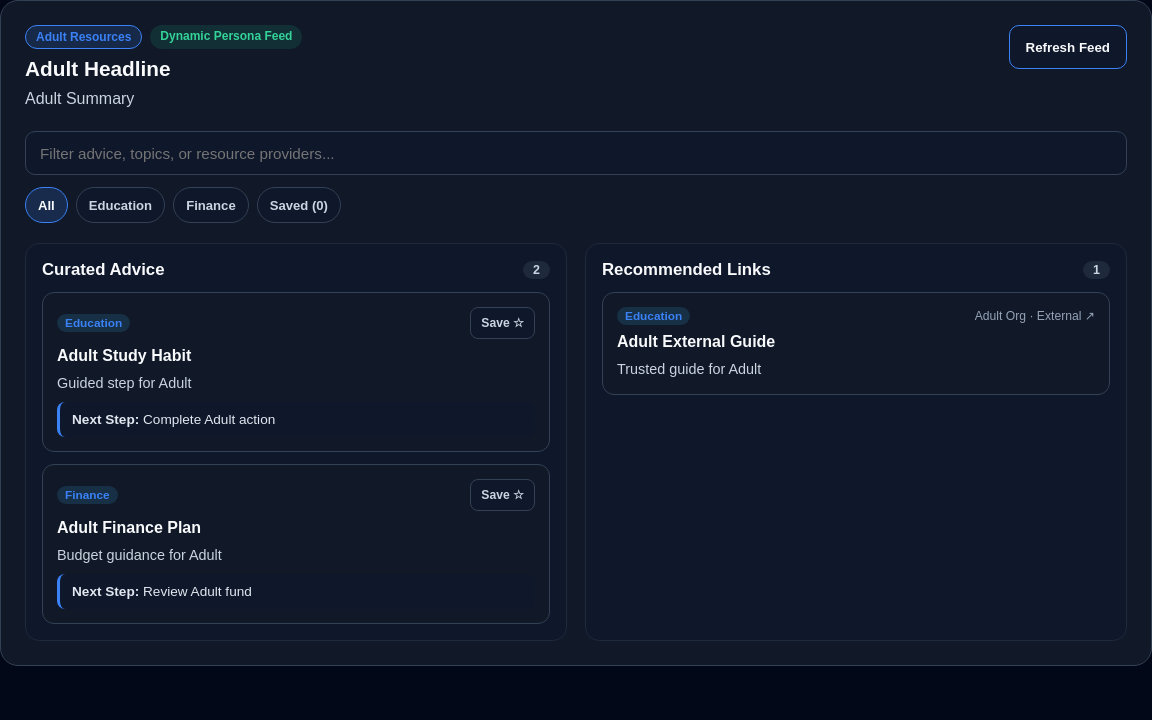
Test: CommunityResourcesComponent › filters advice and links by category and search query and supports bookmarks
The width and height of the screenshot is (1152, 720).
Click the button with test id "resource-category-finance" at point(211, 205), box [173, 187, 249, 223]
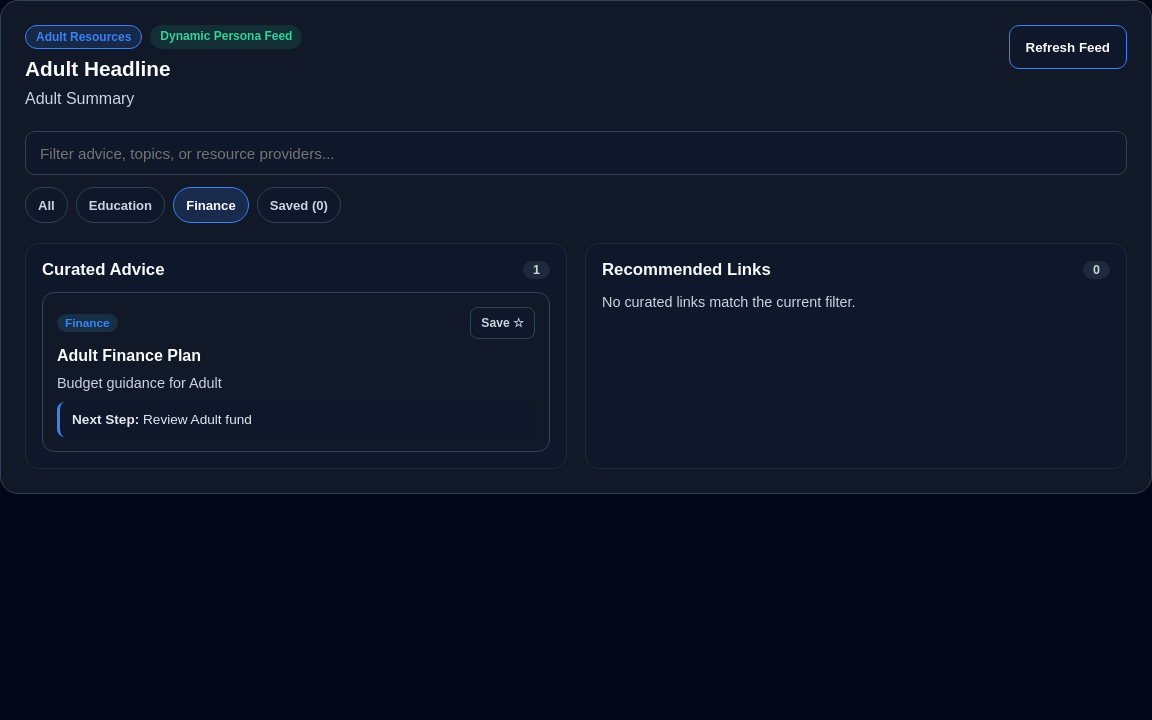
Check: the element with test id "advice-card-adult-adv-2" is shown, box [42, 292, 550, 452]
Check: the element with test id "advice-card-adult-adv-1" is gone
Click the button with test id "resource-category-all" at point(46, 205), box [25, 187, 68, 223]
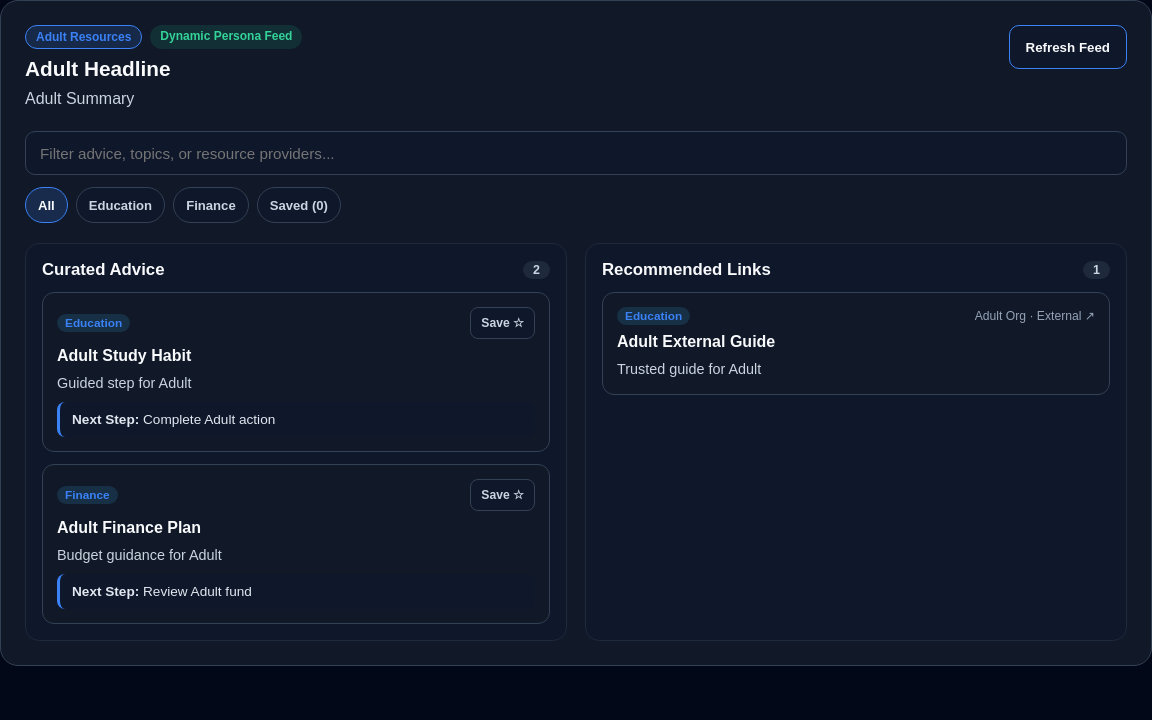
Click the button with test id "bookmark-advice-adult-adv-1" at point(503, 323), box [470, 307, 535, 339]
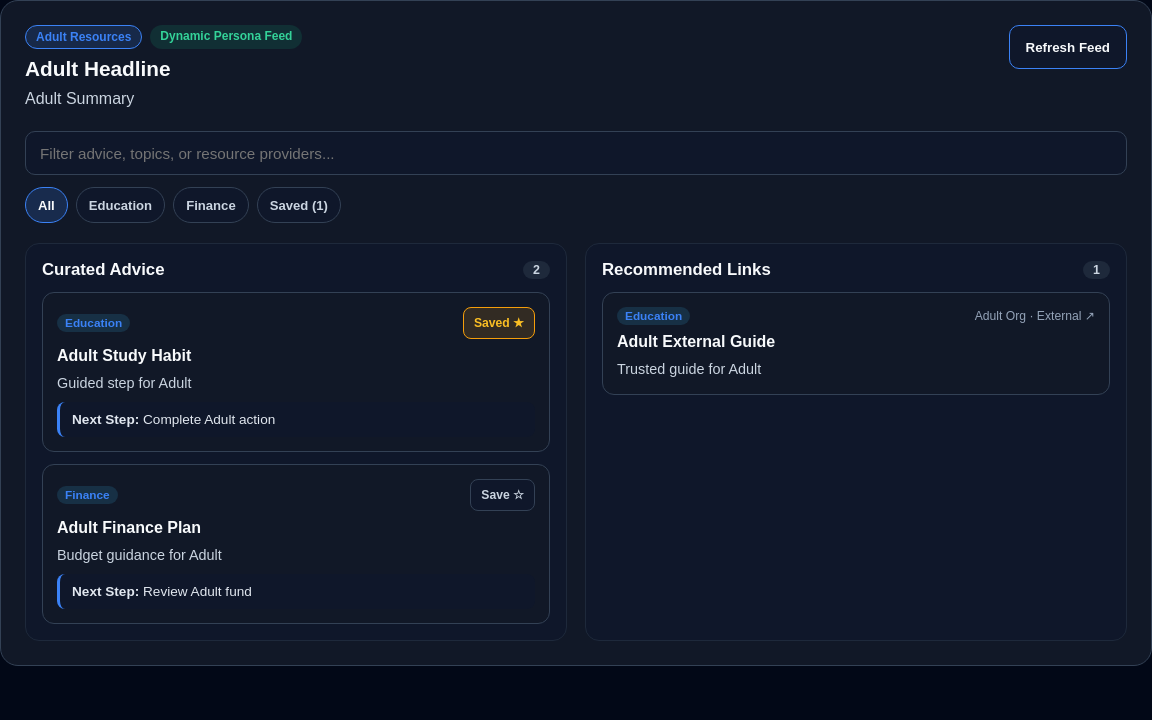
Click the button with test id "resources-saved-only-btn" at point(299, 205), box [257, 187, 341, 223]
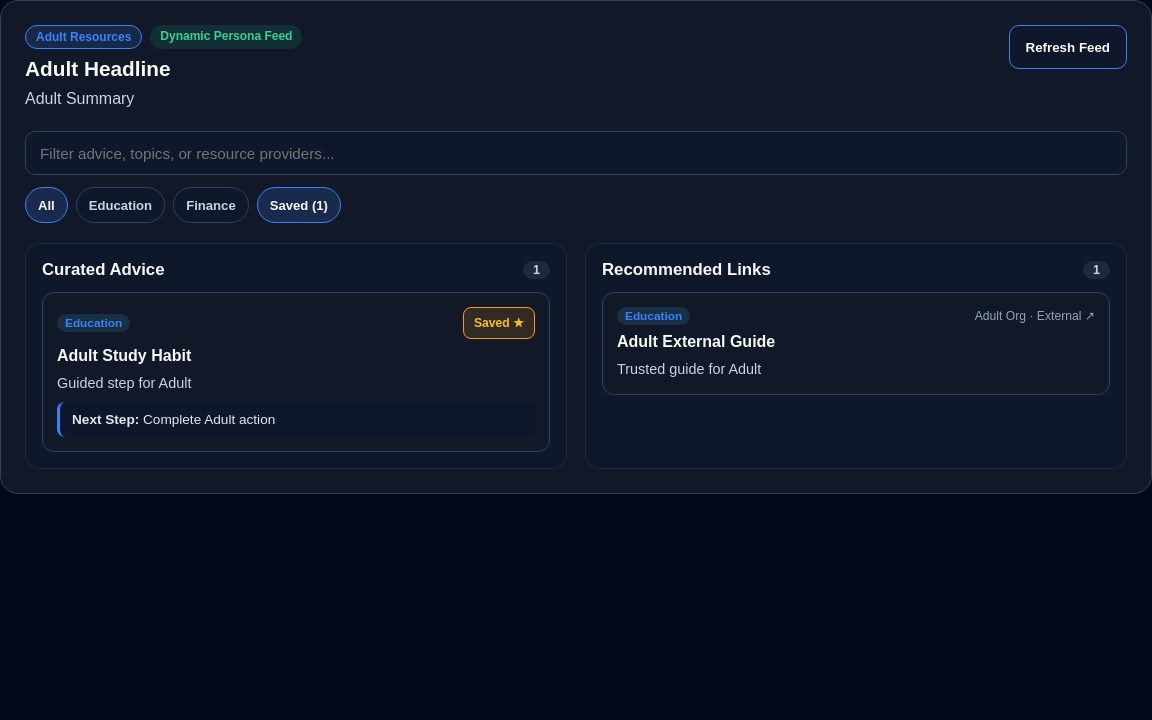
Check: the element with test id "advice-card-adult-adv-1" is shown, box [42, 292, 550, 452]
Check: the element with test id "advice-card-adult-adv-2" is gone
